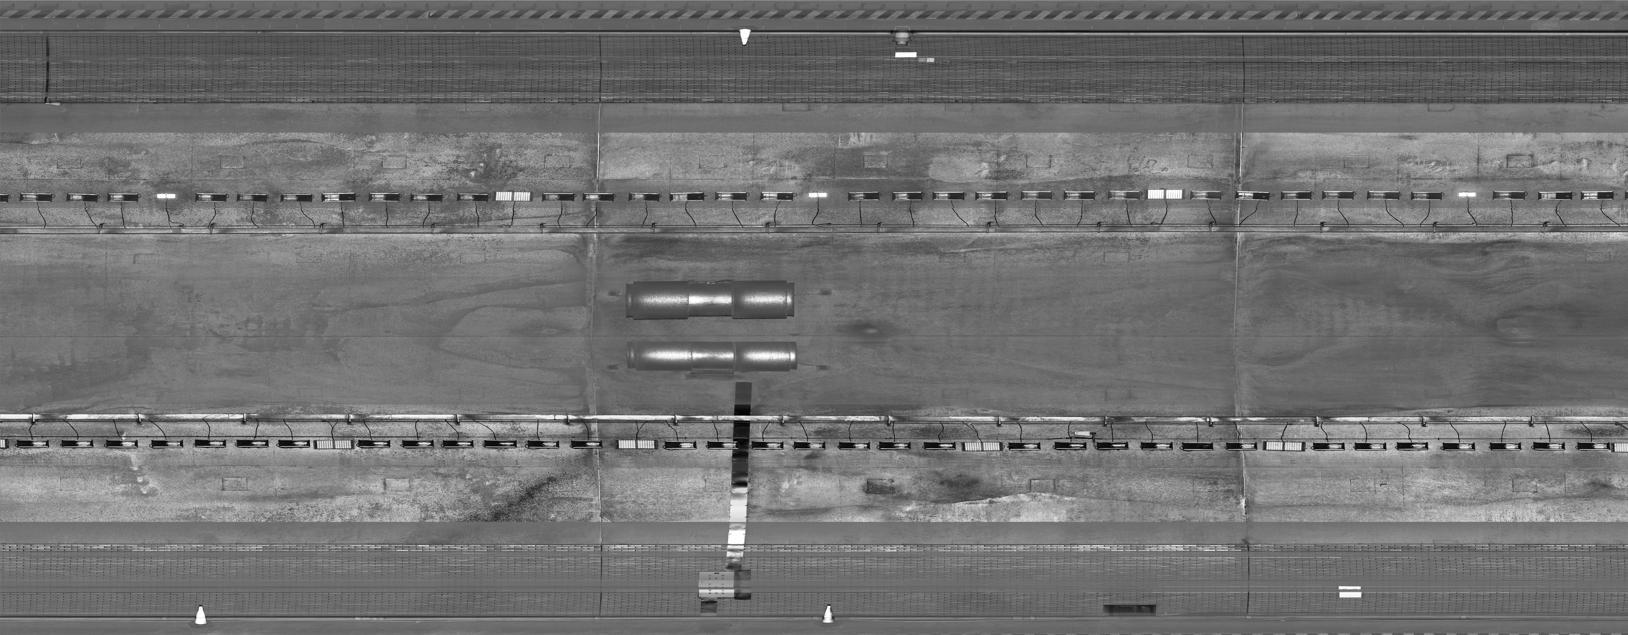light: (1103, 186, 1144, 203), (1261, 439, 1308, 454), (613, 437, 658, 452), (317, 190, 359, 206), (313, 437, 357, 452), (959, 439, 1004, 454), (493, 189, 535, 205), (538, 189, 577, 205), (971, 188, 1012, 203), (1534, 189, 1577, 203), (1145, 187, 1186, 202), (1364, 187, 1402, 203), (666, 190, 708, 204), (1059, 188, 1098, 203), (1233, 188, 1273, 203), (365, 189, 402, 205), (17, 189, 55, 204), (408, 190, 446, 205), (625, 189, 663, 204), (1017, 188, 1056, 203), (1320, 188, 1358, 203), (919, 437, 957, 452), (105, 190, 142, 205), (278, 191, 316, 206), (580, 189, 618, 204), (875, 438, 913, 453), (1093, 438, 1131, 453), (1578, 189, 1618, 203), (12, 436, 52, 450), (1222, 438, 1261, 452), (1489, 189, 1530, 202), (1350, 440, 1391, 453), (1486, 440, 1527, 453), (454, 191, 492, 205), (711, 189, 750, 203), (929, 189, 968, 203), (1188, 188, 1226, 202), (703, 438, 741, 452), (748, 439, 786, 453), (1178, 439, 1217, 453), (1391, 439, 1432, 452), (1438, 440, 1478, 453), (1529, 439, 1570, 452), (233, 191, 270, 205), (889, 190, 926, 204), (1277, 188, 1314, 202), (1408, 189, 1445, 203), (275, 436, 313, 450), (191, 191, 230, 204), (233, 437, 272, 450), (758, 189, 796, 202), (147, 437, 186, 450), (192, 437, 230, 450), (569, 438, 607, 451), (1005, 440, 1043, 453), (1050, 440, 1088, 453), (63, 191, 101, 204), (102, 438, 142, 450), (400, 437, 437, 450), (480, 438, 520, 450), (835, 439, 872, 452), (56, 438, 96, 450), (522, 438, 562, 450), (1137, 440, 1176, 452), (1573, 440, 1612, 452), (791, 439, 827, 452), (1310, 441, 1347, 454), (845, 190, 884, 202), (354, 438, 392, 450), (662, 439, 698, 452), (440, 438, 474, 449), (151, 190, 180, 202), (1453, 190, 1482, 200), (806, 190, 831, 201), (1612, 441, 1628, 453), (1, 189, 12, 205), (1, 434, 10, 452)
